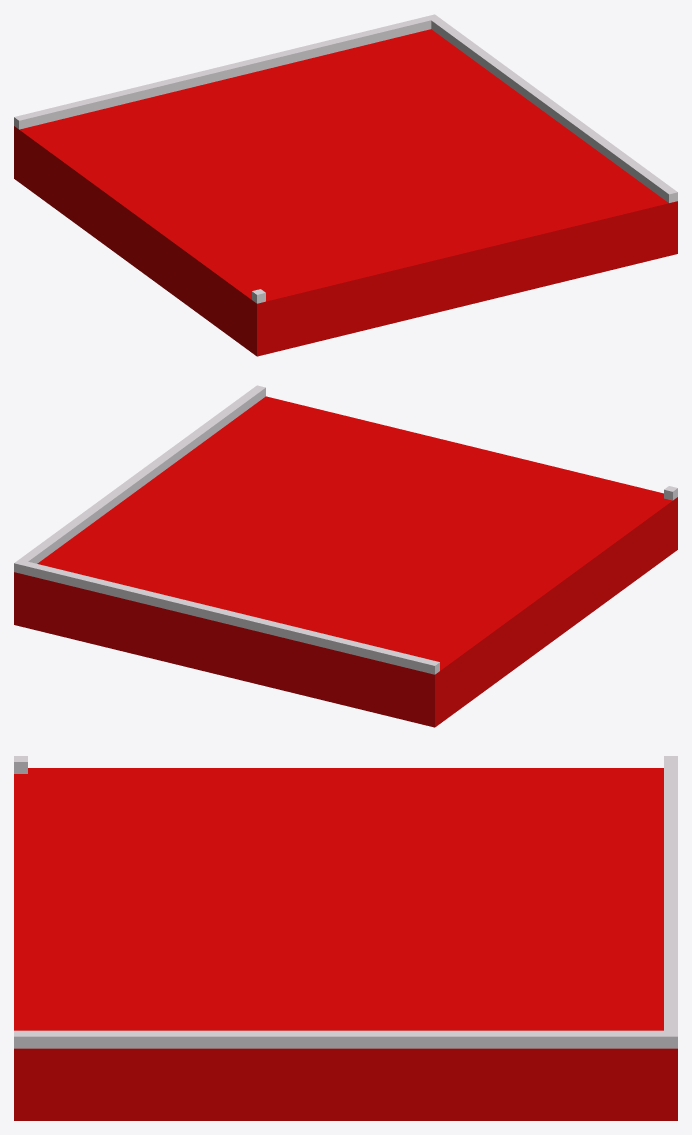
File: cornerv2.glb
3 renders of one model, top to bottom at view 1: azimuth 30°, elevation 25°; view 2: azimuth 150°, elevation 25°; view 3: azimuth 270°, elevation 25°, orthographic. The views are drawn at different scales.
Visible parts, largest first — view 1: cornerv2, center.006; view 2: cornerv2, center.006; view 3: cornerv2, center.006.
Part boxes in pixels (bbox=[...]): cornerv2: bbox=[14, 29, 677, 356]; center.006: bbox=[14, 14, 677, 202]; cornerv2: bbox=[14, 396, 677, 727]; center.006: bbox=[14, 385, 439, 674]; cornerv2: bbox=[14, 768, 677, 1120]; center.006: bbox=[14, 756, 677, 1048].
Size of the model in its own units: 1 by 0.14 by 1.
